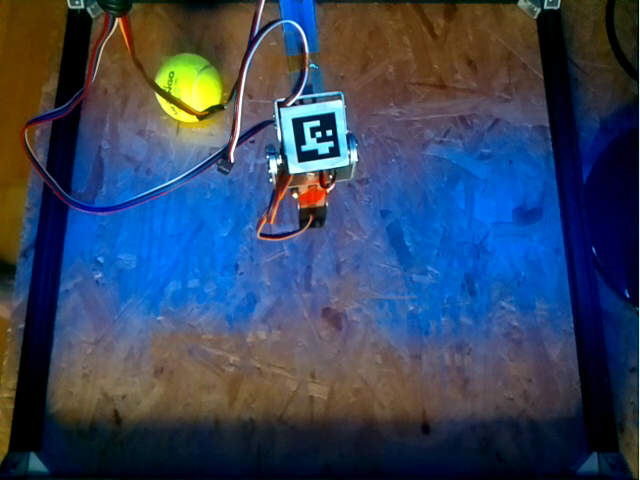tennis_ball: (152, 50, 225, 123)
